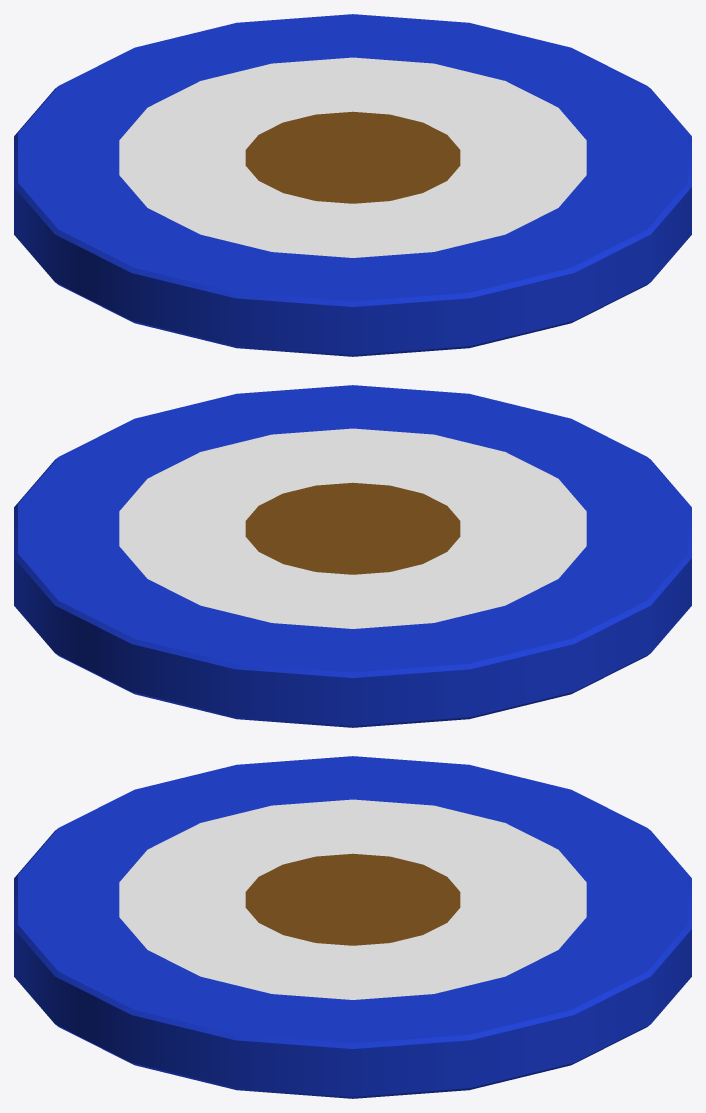
Rendered from Target.FBX.
3 renders of one model, top to bottom at view 1: azimuth 30°, elevation 25°; view 2: azimuth 150°, elevation 25°; view 3: azimuth 270°, elevation 25°, orthographic.
Visible parts, largest first — view 1: Cylinder005; view 2: Cylinder005; view 3: Cylinder005.
Part boxes in pixels (left/top/right/bottom): Cylinder005: left=14, top=14, right=691, bottom=356; Cylinder005: left=14, top=385, right=691, bottom=727; Cylinder005: left=14, top=756, right=691, bottom=1098.
Size of the model in its own units: 114 by 112 by 10.1.
